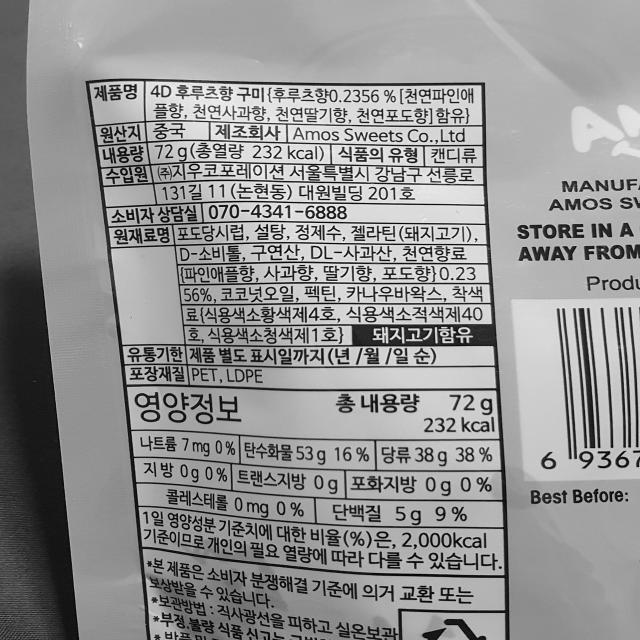Nutrition Label: (116, 378, 543, 583)
